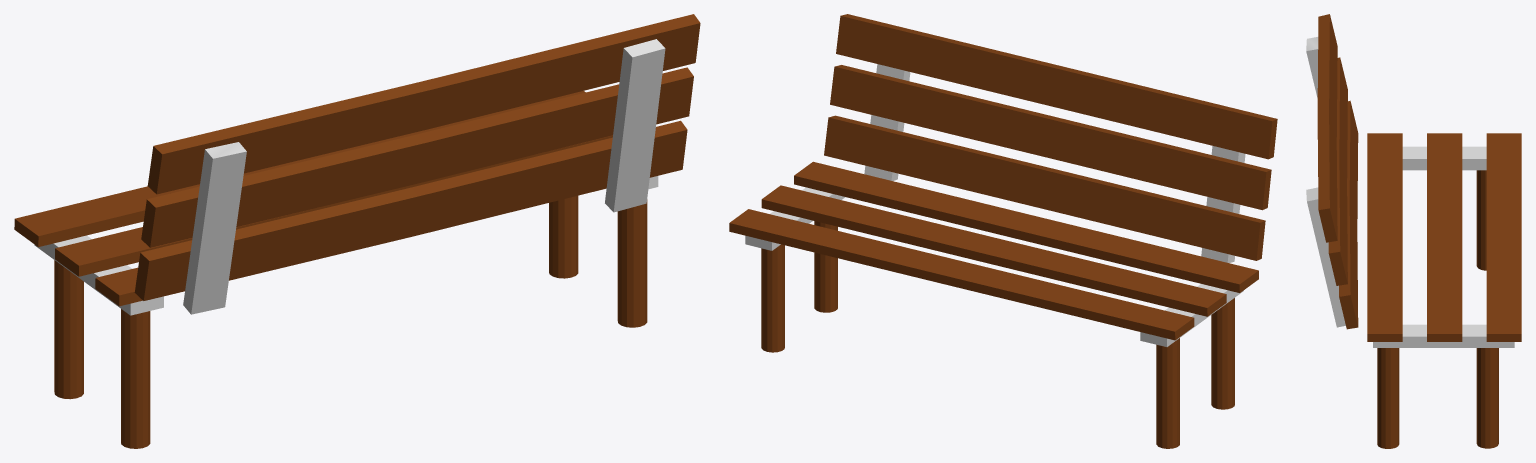
Rendered from lavka_norm.fbx.
The picture shows the model from 3 angles, left to right: view 1: azimuth 30°, elevation 25°; view 2: azimuth 150°, elevation 25°; view 3: azimuth 270°, elevation 25°; orthographic projection. The views are drawn at different scales.
Visible parts, largest first — view 1: Cube.001, Cube.004, Cube.007, Cube.002; view 2: Cube.001, Cube.002, Cube.004, Cube.007; view 3: Cube.002, Cube.001, Cube.004, Cube.007.
Boxes of the visible parts, x1,y1,x2,y2 form: Cube.001: (134, 14, 700, 300); Cube.004: (34, 176, 658, 448); Cube.007: (183, 39, 665, 314); Cube.002: (14, 91, 612, 306); Cube.001: (824, 14, 1277, 260); Cube.002: (729, 161, 1258, 340); Cube.004: (745, 187, 1243, 448); Cube.007: (864, 64, 1245, 263); Cube.002: (1367, 133, 1521, 341); Cube.001: (1317, 14, 1358, 329); Cube.004: (1373, 146, 1514, 448); Cube.007: (1306, 37, 1345, 327).
Bounding box in the file's own units: 159 × 89.95 × 72.05.
